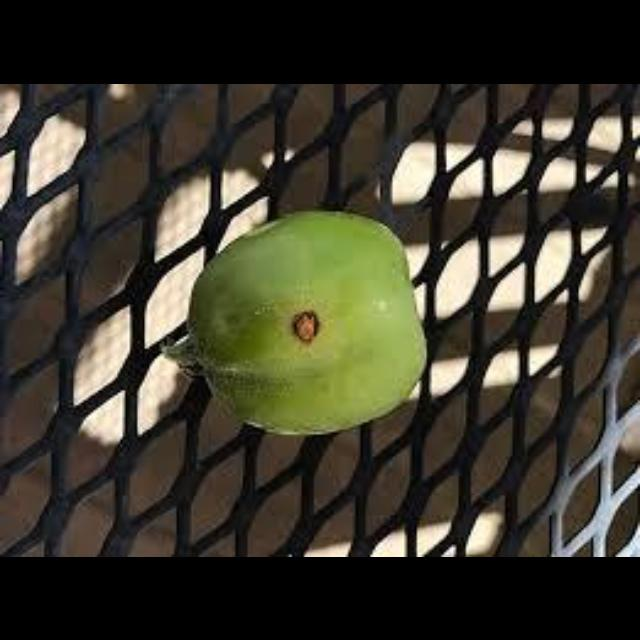apple: (162, 208, 424, 434)
pest: (292, 311, 316, 340)
